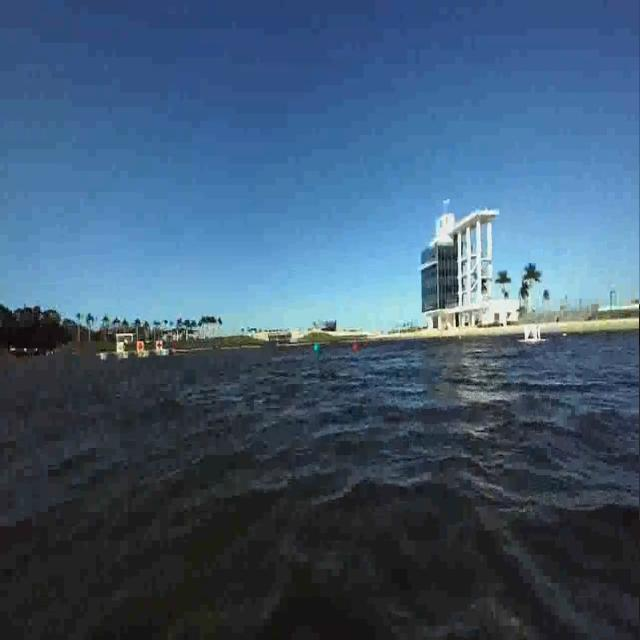green-buoy: (314, 342, 321, 354)
